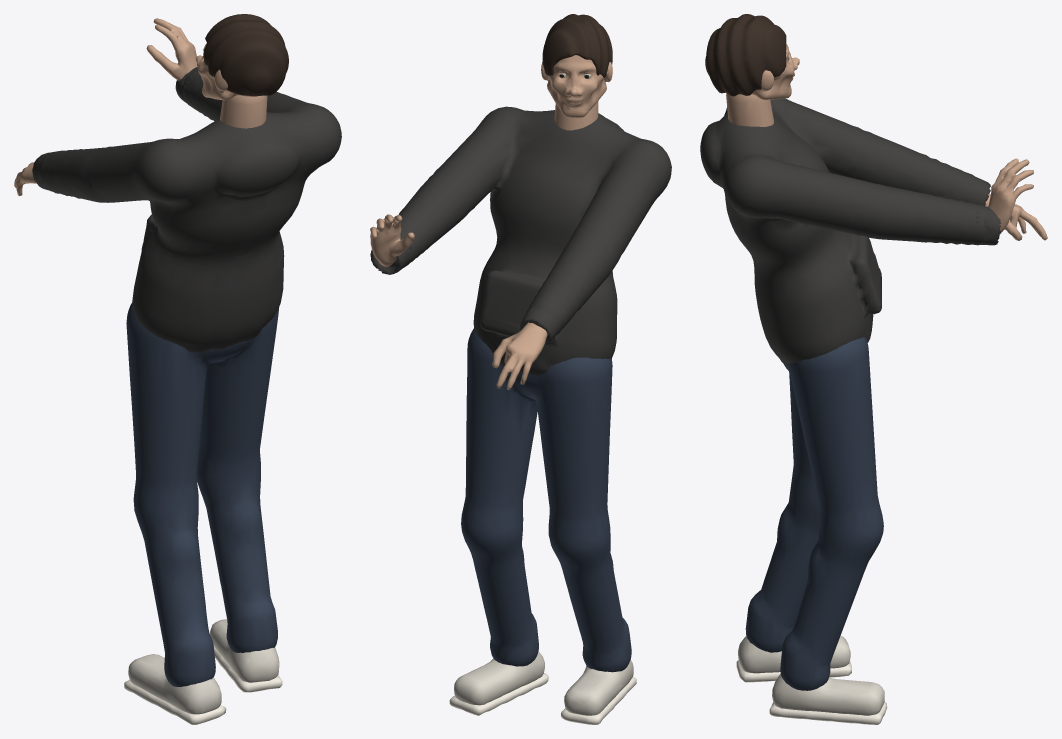
The model's file is vape_bar.glb.
The picture shows the model from 3 angles, left to right: view 1: azimuth 30°, elevation 25°; view 2: azimuth 150°, elevation 25°; view 3: azimuth 270°, elevation 25°; orthographic projection. The views are drawn at different scales.
Visible parts, largest first — view 1: vape_bar_body, vape_bar_head, vape_bar_hands; view 2: vape_bar_body, vape_bar_head, vape_bar_hands; view 3: vape_bar_body, vape_bar_head, vape_bar_hands.
Boxes of the visible parts, x1,y1,x2,y2 form: vape_bar_body: (38,68,341,724); vape_bar_head: (196,14,288,100); vape_bar_hands: (14,18,198,195); vape_bar_body: (388,101,671,724); vape_bar_head: (541,14,612,117); vape_bar_hands: (370,214,562,389); vape_bar_body: (700,93,986,724); vape_bar_head: (705,14,799,99); vape_bar_hands: (966,158,1047,245).
Bounding box in the file's own units: 0.5247 × 1.74 × 0.8084.
